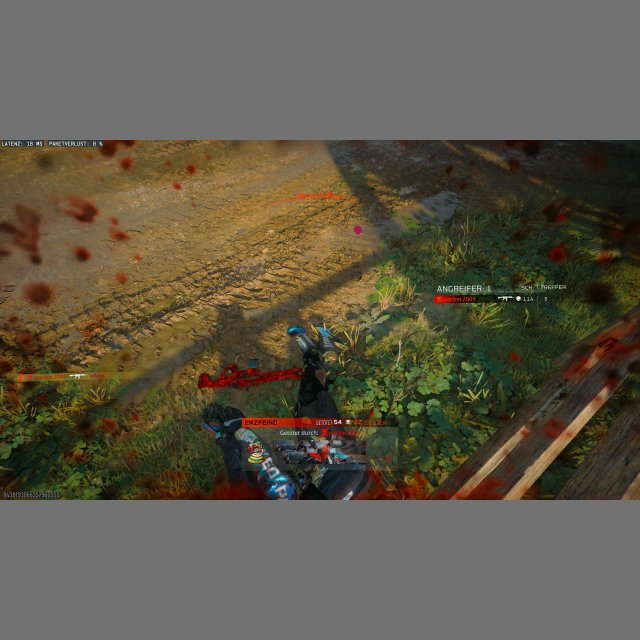player: (286, 319, 345, 415)
